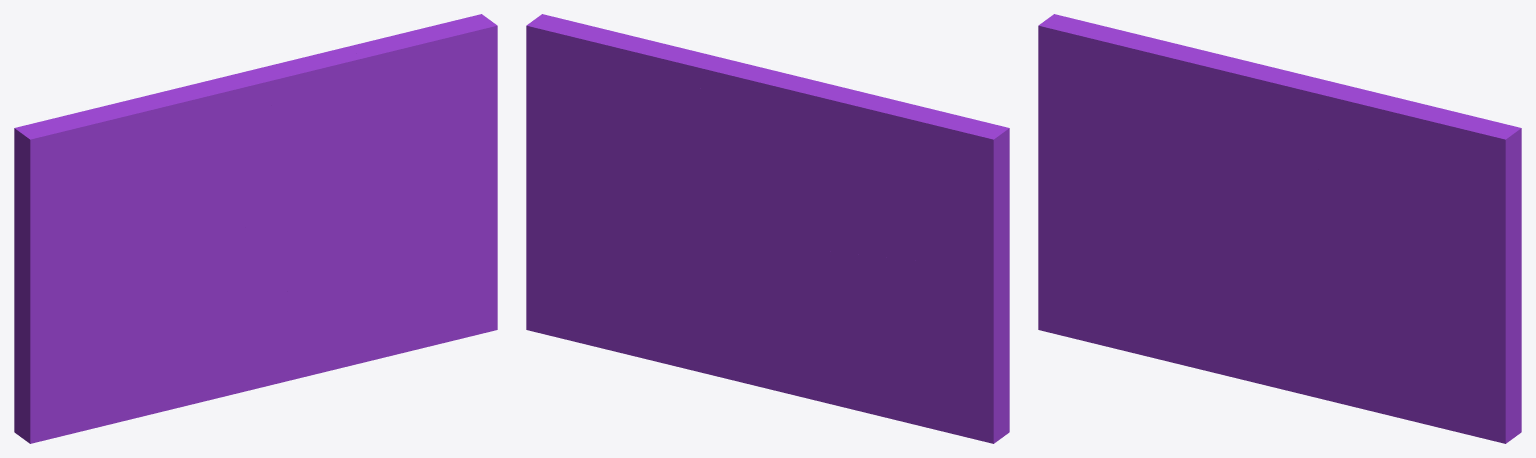
The model's file is Barrier_94_chunks.fbx.
3 views of the same model, side by side, from view 1: azimuth 30°, elevation 25°; view 2: azimuth 150°, elevation 25°; view 3: azimuth 330°, elevation 25° (orthographic).
Parts seen in each view (by area): view 1: Barrier_94_2, Barrier_94_1, Barrier_94_3, Barrier_94_5, Barrier_94_6, Barrier_94_0; view 2: Barrier_94_2, Barrier_94_1, Barrier_94_0, Barrier_94_3, Barrier_94_6, Barrier_94_5, Barrier_94_4; view 3: Barrier_94_2, Barrier_94_1, Barrier_94_3, Barrier_94_5, Barrier_94_6, Barrier_94_0.
Boxes of the visible parts, <box> form: Barrier_94_2: <box>266,14,497,371</box>; Barrier_94_1: <box>14,225,296,443</box>; Barrier_94_3: <box>14,111,185,256</box>; Barrier_94_5: <box>180,45,359,234</box>; Barrier_94_6: <box>82,47,344,171</box>; Barrier_94_0: <box>283,322,324,381</box>; Barrier_94_2: <box>526,14,750,365</box>; Barrier_94_1: <box>815,239,1009,443</box>; Barrier_94_0: <box>672,224,848,408</box>; Barrier_94_3: <box>852,106,1009,268</box>; Barrier_94_6: <box>663,58,925,183</box>; Barrier_94_5: <box>655,47,814,235</box>; Barrier_94_4: <box>781,177,891,257</box>; Barrier_94_2: <box>1274,96,1521,443</box>; Barrier_94_1: <box>1038,136,1304,391</box>; Barrier_94_3: <box>1038,14,1193,192</box>; Barrier_94_5: <box>1188,94,1391,225</box>; Barrier_94_6: <box>1122,30,1384,133</box>; Barrier_94_0: <box>1291,338,1332,401</box>.
Size of the model in its own units: 462 by 288 by 27.2.
